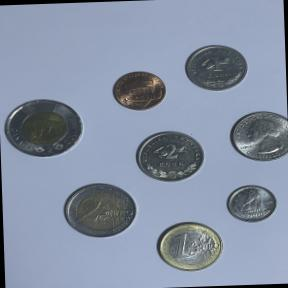1 Euro: (152, 218, 226, 276)
2 Euro: (59, 177, 141, 243)
Canda-10cent-: (222, 181, 281, 226)
Canda-2Dollar-: (0, 92, 90, 162)
Croatia-2Kune-: (132, 126, 208, 186)
US-1cent-: (107, 66, 169, 114)
US-25cent-: (224, 105, 288, 166)
